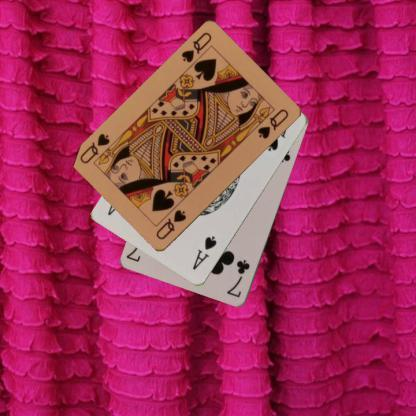7c: (224, 257, 252, 299)
As: (190, 234, 218, 272)
Qs: (178, 30, 214, 64), (153, 208, 188, 242)
